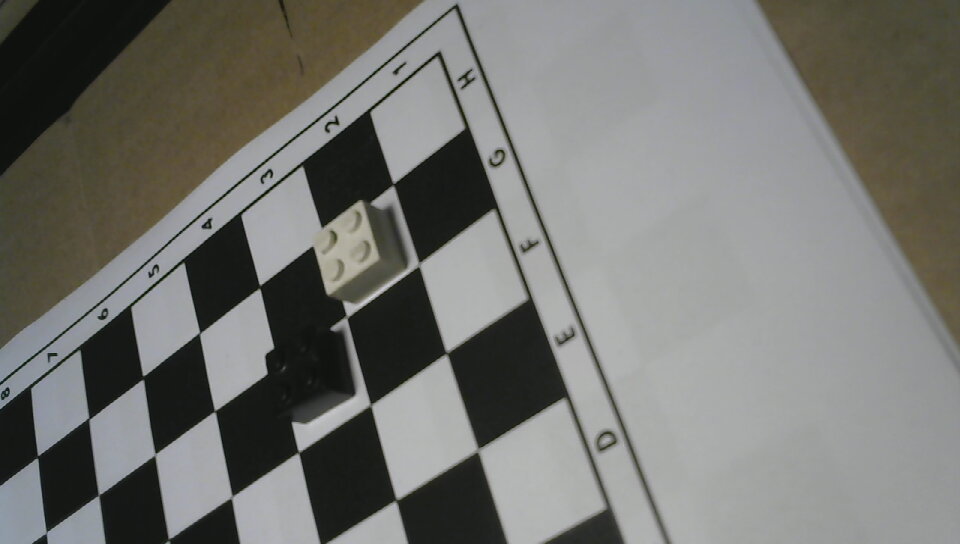wp: (309, 197, 413, 307)
